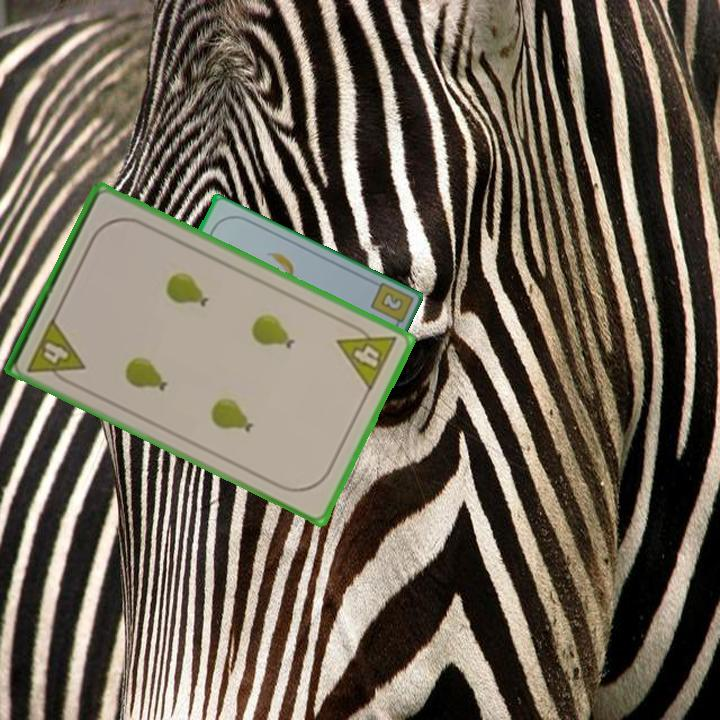2b: (377, 289, 406, 314)
4p: (333, 317, 400, 394), (23, 314, 88, 389)
